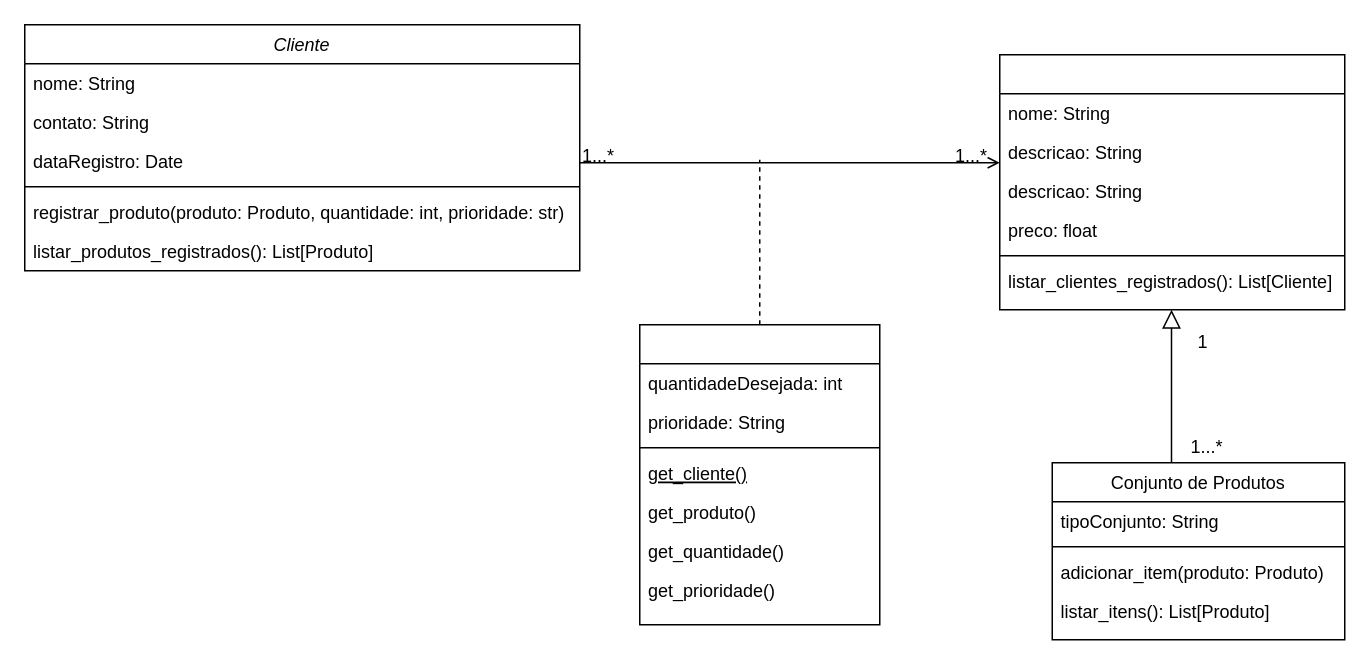
This 1370x665 diagram has some shape labels left out. The box of each missing label's shape, as (x1, y1, x2, y2) in pixels:
Produto: (998, 53, 1345, 310)
RegistroDeProduto: (638, 323, 880, 625)
